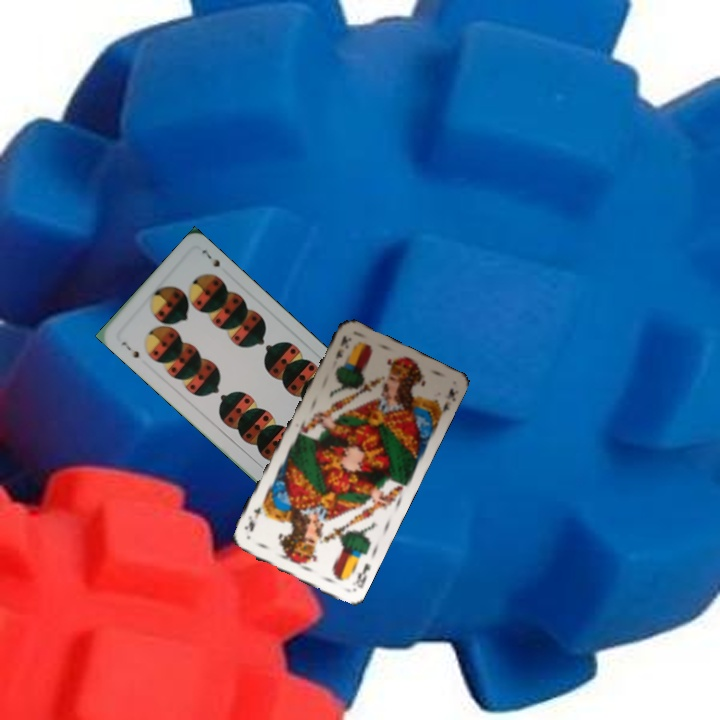EK: (348, 559, 373, 591), (331, 331, 352, 361)
S7: (117, 337, 142, 361)
